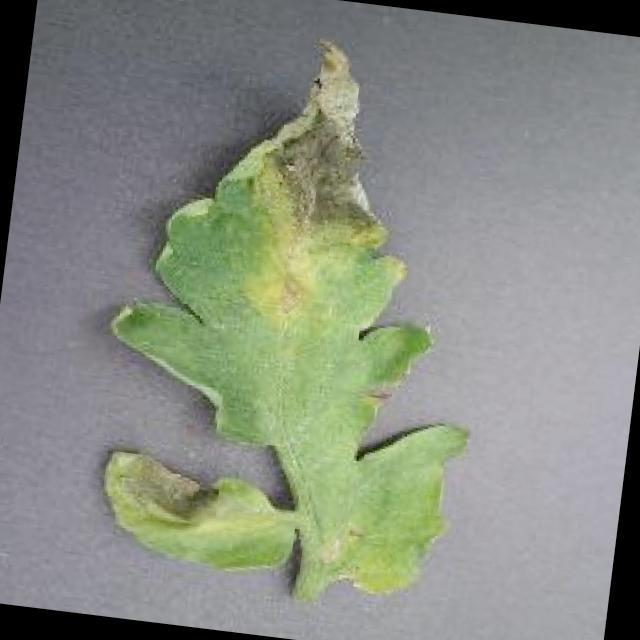Tomato late blight leaf: (80, 22, 510, 606)
